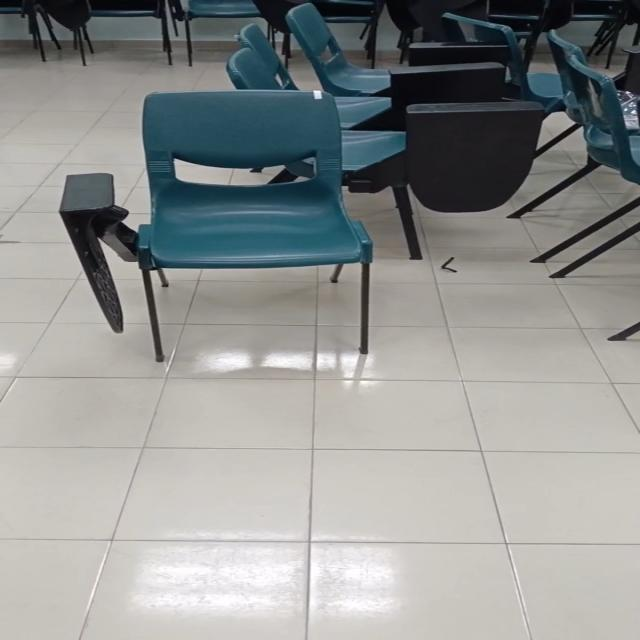sandalye: (135, 90, 372, 361)
